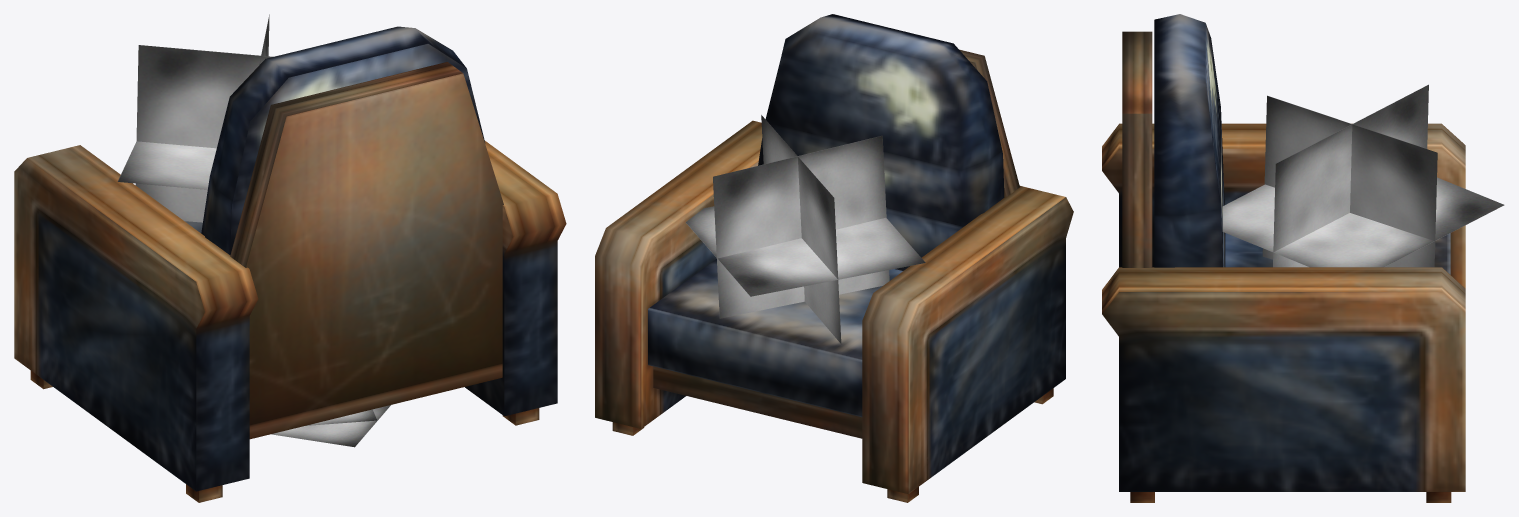
File: c_SWGchair05Ab01.glb
The picture shows the model from 3 angles, left to right: view 1: azimuth 30°, elevation 25°; view 2: azimuth 150°, elevation 25°; view 3: azimuth 270°, elevation 25°; orthographic projection. The views are drawn at different scales.
Parts seen in each view (by area): view 1: c_SWGchair05Ab01; view 2: c_SWGchair05Ab01; view 3: c_SWGchair05Ab01.
Boxes of the visible parts, <box> form: c_SWGchair05Ab01: <box>14,14,566,502</box>; c_SWGchair05Ab01: <box>595,14,1073,502</box>; c_SWGchair05Ab01: <box>1102,14,1504,502</box>.
Size of the model in its own units: 0.9996 by 1.05 by 1.01.
2 materials, 2 textured.
